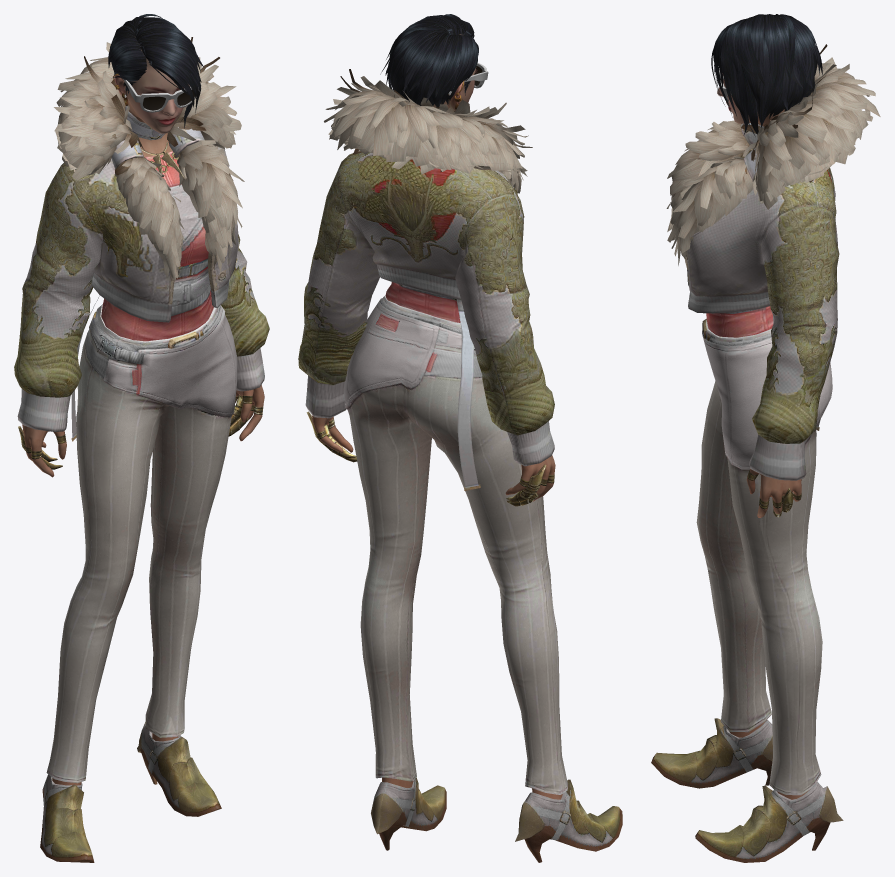
3 renders of one model, left to right at view 1: azimuth 30°, elevation 25°; view 2: azimuth 150°, elevation 25°; view 3: azimuth 270°, elevation 25°, orthographic. The views are drawn at different scales.
Parts seen in each view (by area): view 1: Mesh_0117.rip, Mesh_0011.rip, Mesh_0016.rip, Mesh_0120.rip, Mesh_0019.rip, Mesh_0012.rip, Mesh_0020.rip; view 2: Mesh_0117.rip, Mesh_0011.rip, Mesh_0016.rip, Mesh_0120.rip, Mesh_0019.rip, Mesh_0012.rip; view 3: Mesh_0117.rip, Mesh_0011.rip, Mesh_0016.rip, Mesh_0120.rip, Mesh_0019.rip, Mesh_0012.rip.
Part boxes in pixels (x1,y1,x2,y2): Mesh_0117.rip: (46, 304, 237, 783); Mesh_0011.rip: (14, 106, 269, 469); Mesh_0016.rip: (54, 37, 244, 280); Mesh_0120.rip: (40, 722, 221, 862); Mesh_0019.rip: (108, 14, 203, 128); Mesh_0012.rip: (22, 36, 264, 807); Mesh_0020.rip: (113, 73, 201, 112); Mesh_0117.rip: (343, 294, 567, 794); Mesh_0011.rip: (298, 152, 554, 506); Mesh_0016.rip: (324, 69, 532, 193); Mesh_0120.rip: (371, 777, 622, 862); Mesh_0019.rip: (380, 14, 478, 106); Mesh_0012.rip: (312, 34, 562, 799); Mesh_0117.rip: (696, 319, 832, 795); Mesh_0011.rip: (685, 123, 839, 517); Mesh_0016.rip: (666, 44, 880, 265); Mesh_0120.rip: (651, 718, 843, 862); Mesh_0019.rip: (711, 14, 822, 136); Mesh_0012.rip: (716, 73, 810, 799).
Size of the model in its own units: 0.2972 by 0.8735 by 0.2214.
Materials: 8 (8 with a texture image).
